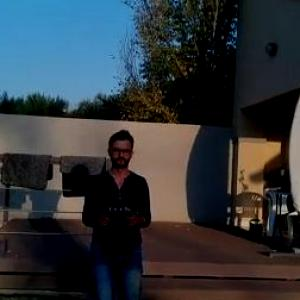follow: (75, 118, 158, 299)
